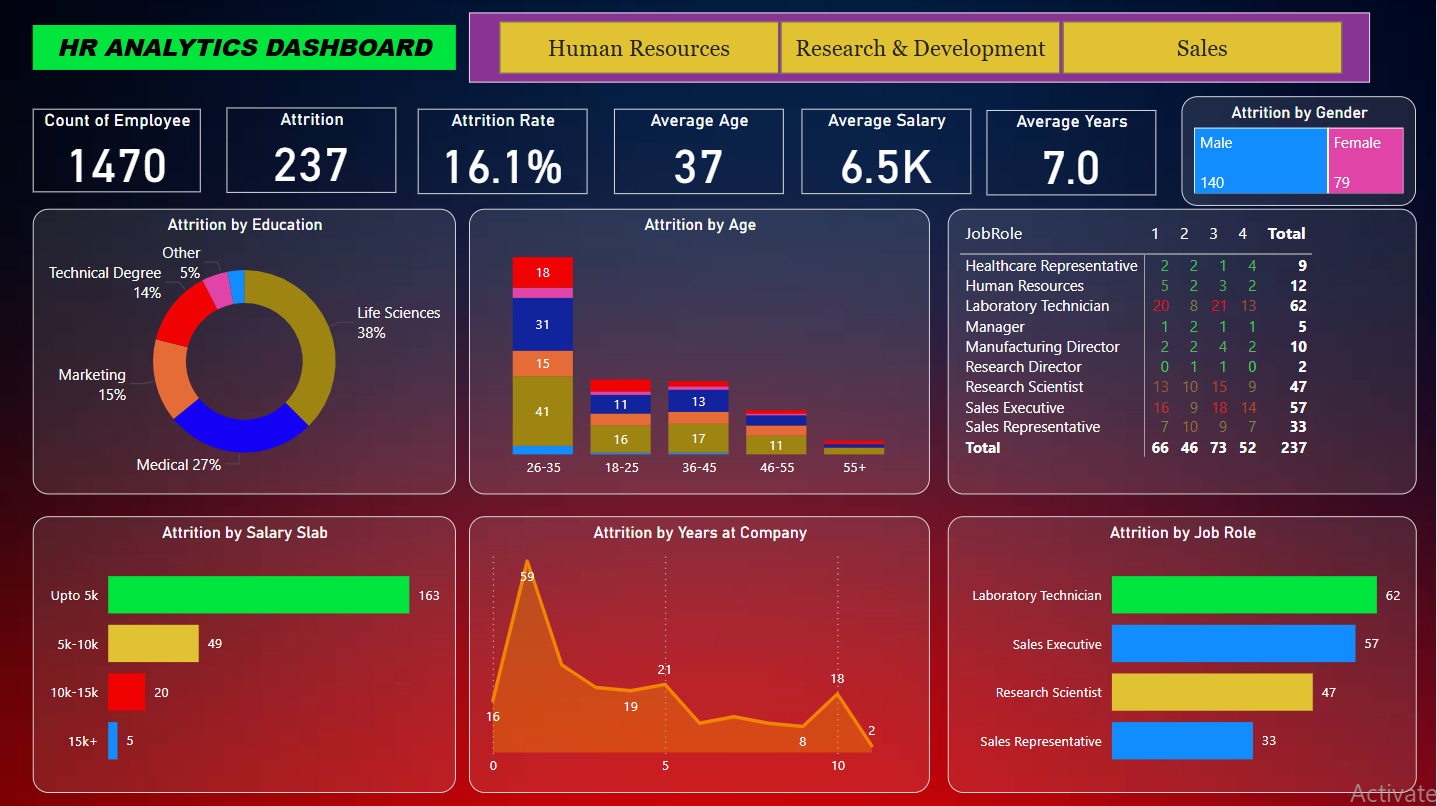

What the dashboard file says about the page in this screenshot:
{"tool":"powerbi","page":{"name":"Page 1","canvas":[1280,720],"ordinal":0},"visuals":[{"type":"card","title":"Count of Employee","fields":{"Values":["CountNonNull(HR_Analytics.EmpID)"]},"box":[30.2,96.5,149.6,74.8],"z":0},{"type":"card","title":"Attrition","fields":{"Values":["HR_Analytics.Count of AttritionCount running total in AttritionCount","Sum(HR_Analytics.AttritionCount)"]},"box":[202.7,95.3,150.8,76],"z":1000},{"type":"card","title":"Attrition Rate","fields":{"Values":["HR_Analytics.AttritionRate"]},"box":[372.8,96.5,150.8,76],"z":2000},{"type":"card","title":"Average Age","fields":{"Values":["Avg(HR_Analytics.Age)"]},"box":[547.7,96.5,150.8,76],"z":3000},{"type":"card","title":"Average Salary","fields":{"Values":["Avg(HR_Analytics.MonthlyIncome)"]},"box":[714.2,96.5,150.8,76],"z":4000},{"type":"card","title":"Average Years","fields":{"Values":["Avg(HR_Analytics.YearsAtCompany)"]},"box":[879.5,97.7,150.8,76],"z":5000},{"type":"donutChart","title":"Attrition by Education","fields":{"Y":["Sum(HR_Analytics.AttritionCount)"],"Category":["HR_Analytics.EducationField"],"Series":["HR_Analytics.EducationField"]},"box":[30.2,185.8,376.4,254.6],"z":6000},{"type":"columnChart","title":"Attrition by Age","fields":{"Category":["HR_Analytics.AgeGroup"],"Y":["Sum(HR_Analytics.AttritionCount)"],"Series":["HR_Analytics.EducationField"]},"box":[418.6,185.8,410.2,254.6],"z":7000},{"type":"pivotTable","fields":{"Rows":["HR_Analytics.JobRole"],"Columns":["HR_Analytics.JobSatisfaction"],"Values":["Sum(HR_Analytics.AttritionCount)"]},"box":[844.5,185.8,417.4,254.6],"z":8000},{"type":"barChart","title":"Attrition by Salary Slab","fields":{"Category":["HR_Analytics.SalarySlab"],"Y":["Sum(HR_Analytics.AttritionCount)"]},"box":[30.2,459.7,376.4,246.1],"z":9000},{"type":"barChart","title":"Attrition by Job Role","fields":{"Category":["HR_Analytics.JobRole"],"Y":["Sum(HR_Analytics.AttritionCount)"]},"box":[844.5,459.7,417.4,246.1],"z":10000},{"type":"areaChart","title":"Attrition by Years at Company","fields":{"Category":["HR_Analytics.YearsAtCompany"],"Y":["Sum(HR_Analytics.AttritionCount)"]},"box":[418.6,459.7,410.2,246.1],"z":11000},{"type":"treemap","title":"Attrition by Gender","fields":{"Group":["HR_Analytics.Gender"],"Values":["Sum(HR_Analytics.AttritionCount)"]},"box":[1053.2,85.7,208.7,97.7],"z":12000},{"type":"slicer","fields":{"Values":["HR_Analytics.Department"]},"box":[418.6,10.9,802.3,62.7],"z":13000},{"type":"textbox","box":[30.2,21.7,376.4,39.8],"z":14000}]}

Visuals, with their boxes in screenshot pixels (x1, y1, x2, y2), scaled from the page's 1280x720 canvas onto the 1437x806 screenshot:
"Count of Employee" card: bbox(34, 108, 202, 192)
"Attrition" card: bbox(228, 107, 397, 192)
"Attrition Rate" card: bbox(419, 108, 588, 193)
"Average Age" card: bbox(615, 108, 784, 193)
"Average Salary" card: bbox(802, 108, 971, 193)
"Average Years" card: bbox(987, 109, 1157, 194)
"Attrition by Education" donutChart: bbox(34, 208, 456, 493)
"Attrition by Age" columnChart: bbox(470, 208, 930, 493)
pivotTable - HR_Analytics.JobRole x HR_Analytics.JobSatisfaction: bbox(948, 208, 1417, 493)
"Attrition by Salary Slab" barChart: bbox(34, 515, 456, 790)
"Attrition by Job Role" barChart: bbox(948, 515, 1417, 790)
"Attrition by Years at Company" areaChart: bbox(470, 515, 930, 790)
"Attrition by Gender" treemap: bbox(1182, 96, 1417, 205)
slicer - HR_Analytics.Department: bbox(470, 12, 1371, 82)
textbox: bbox(34, 24, 456, 69)
